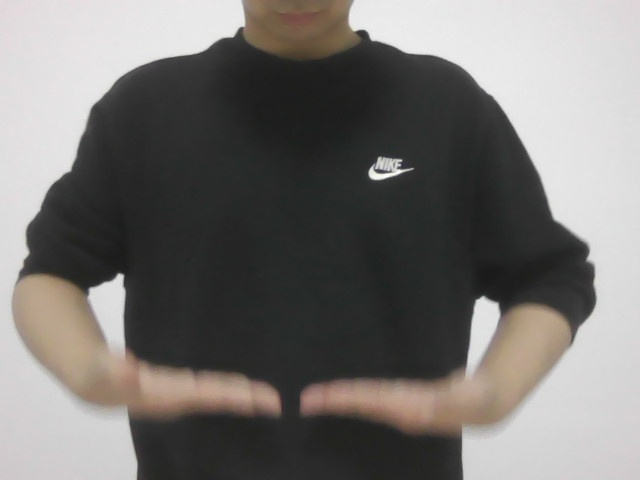today: (94, 339, 493, 445)
